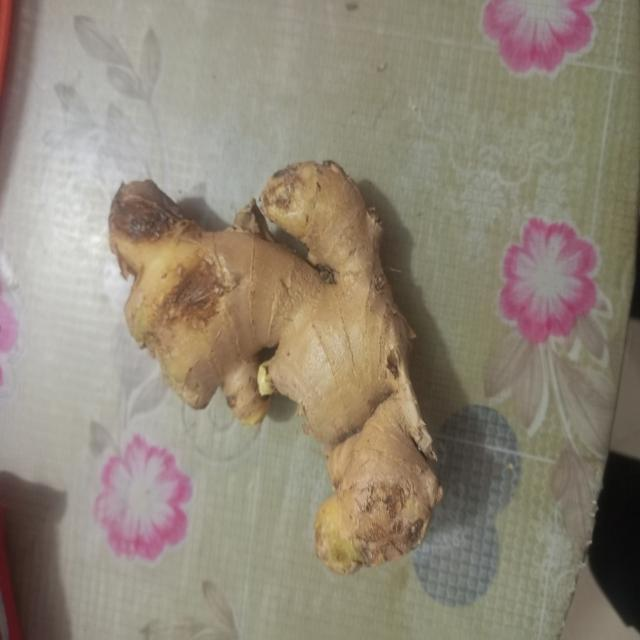ginger: (116, 162, 434, 564)
